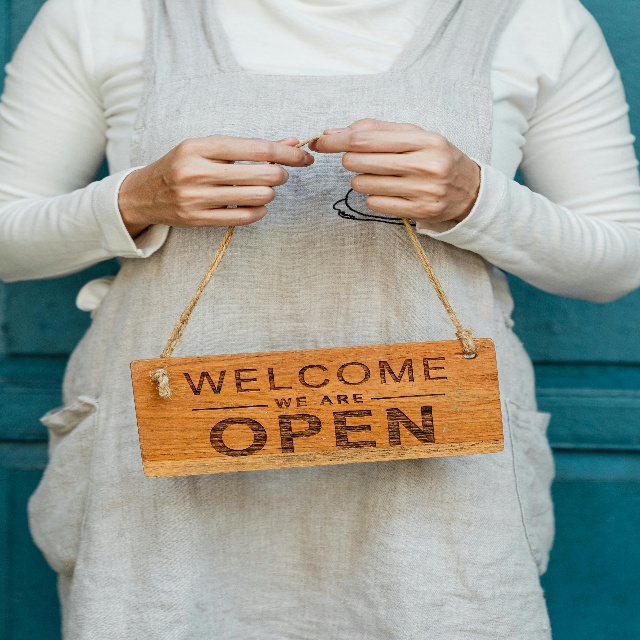Sin_guantes: (309, 119, 478, 228), (125, 135, 315, 229)
